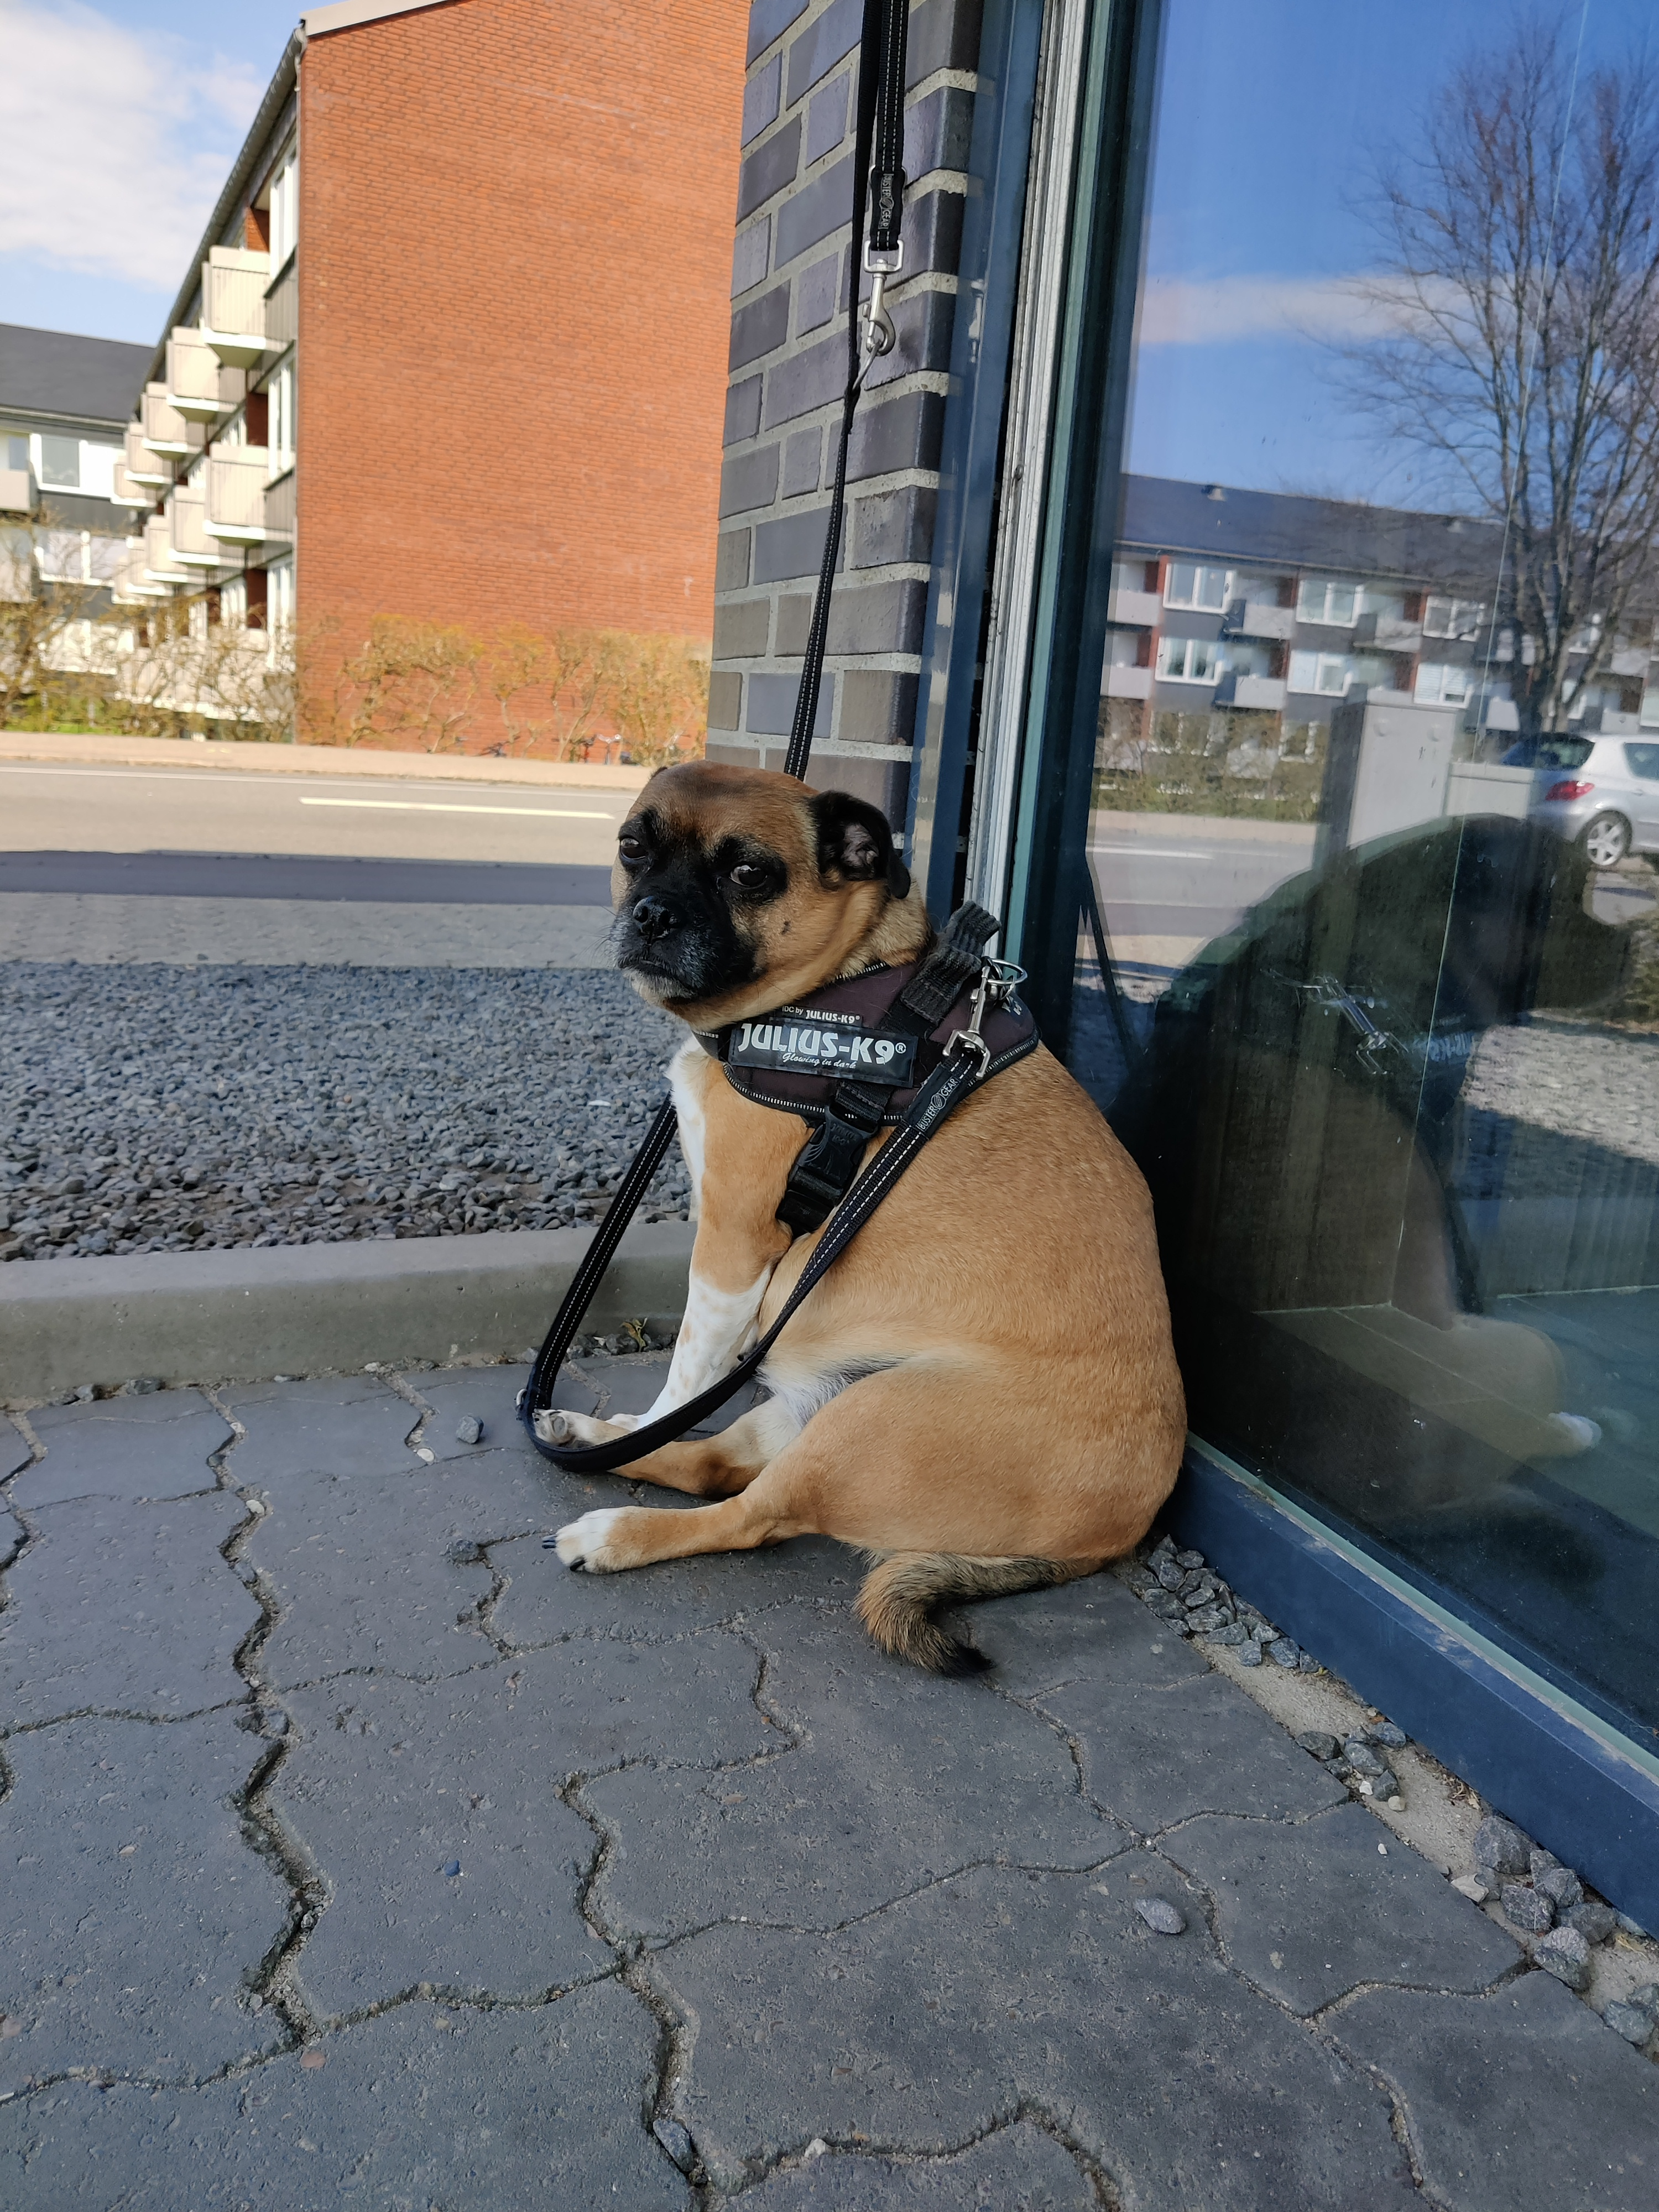Dog: (512, 728, 1218, 1689)
